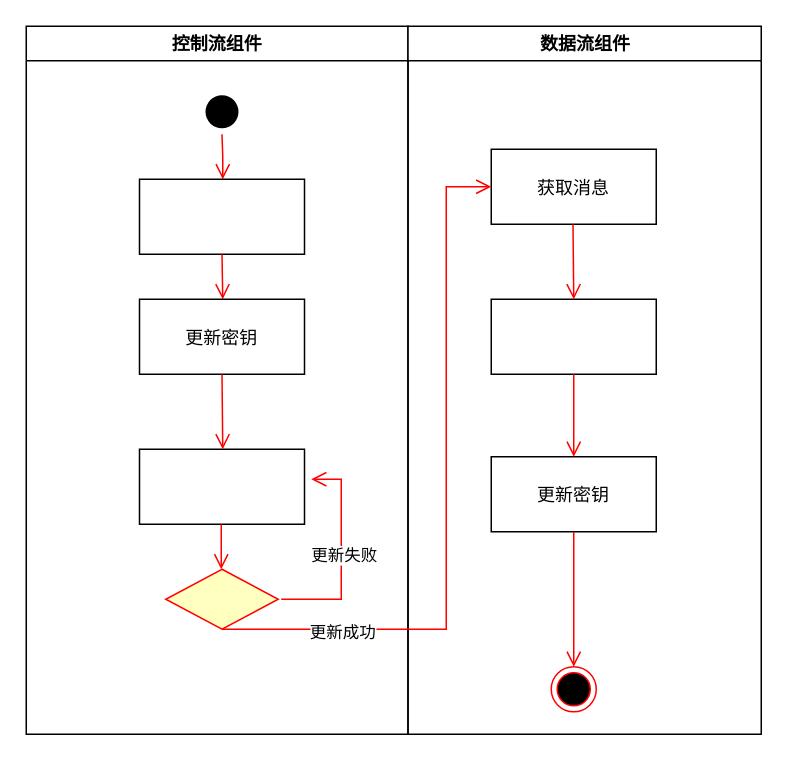
This 788x761 diagram has some shape labels left out. Here are the shapes that lost their labels. From the top down, the centre of each, then its label:
At [221,216]: "获取密钥".
At [573,336]: "解析消息".
At [221,486]: "发布更新消息".
